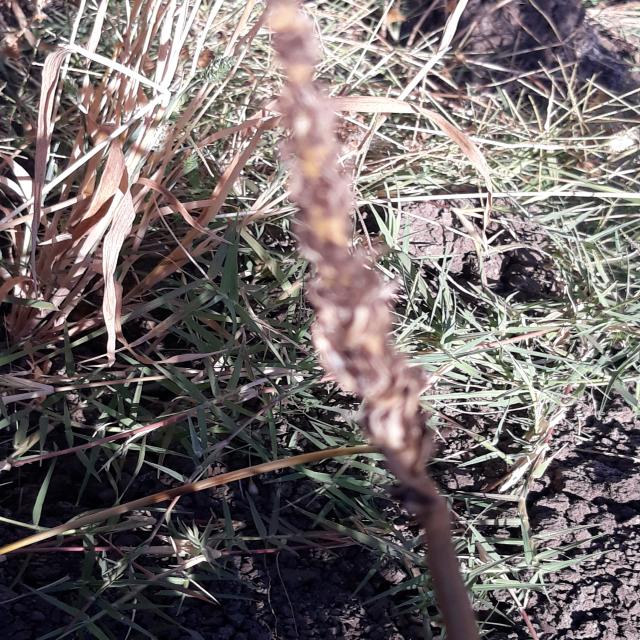loose_charred: (238, 0, 490, 640)
